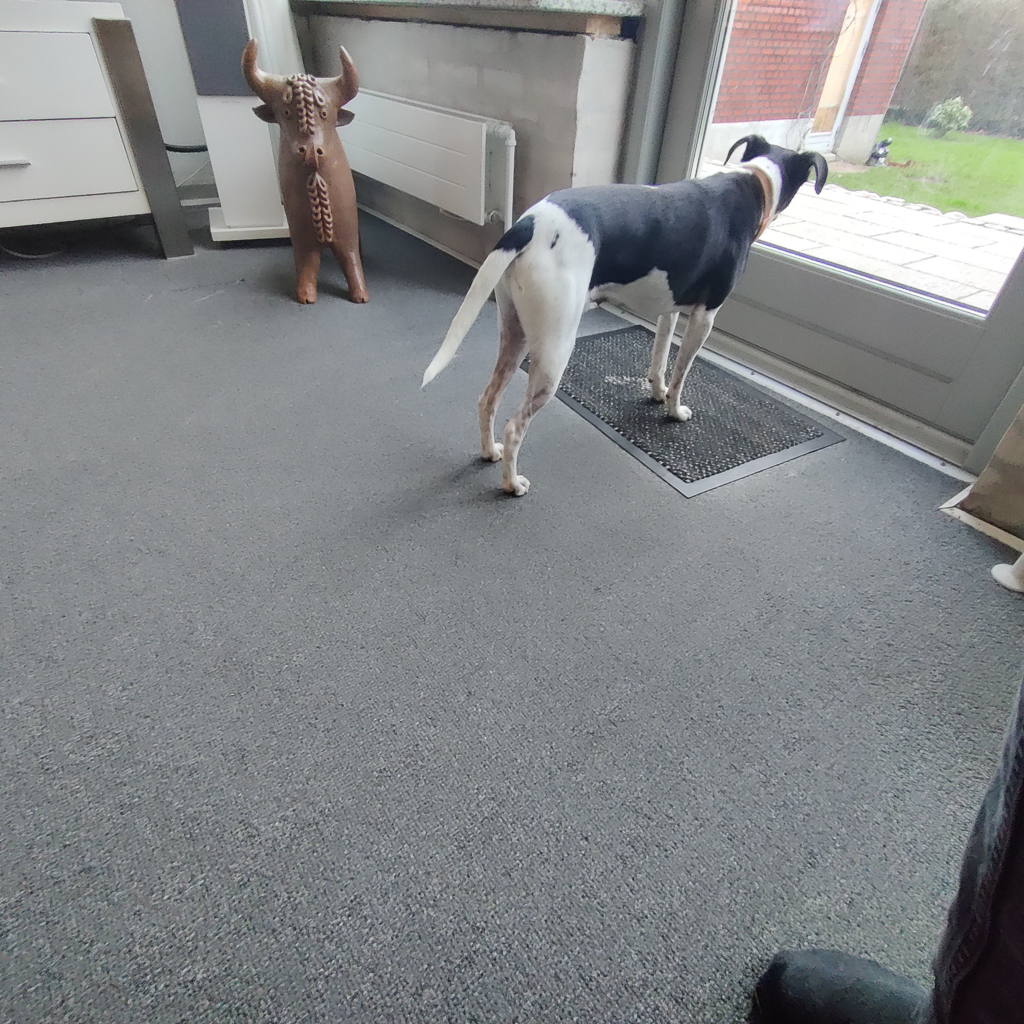Cattle: (219, 25, 410, 333)
Dog: (386, 110, 847, 510)
Humanoid: (858, 131, 898, 172)
